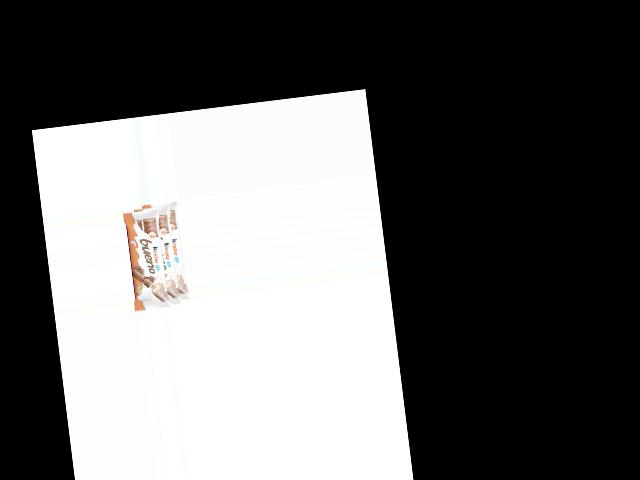chocolate: (121, 201, 190, 309)
